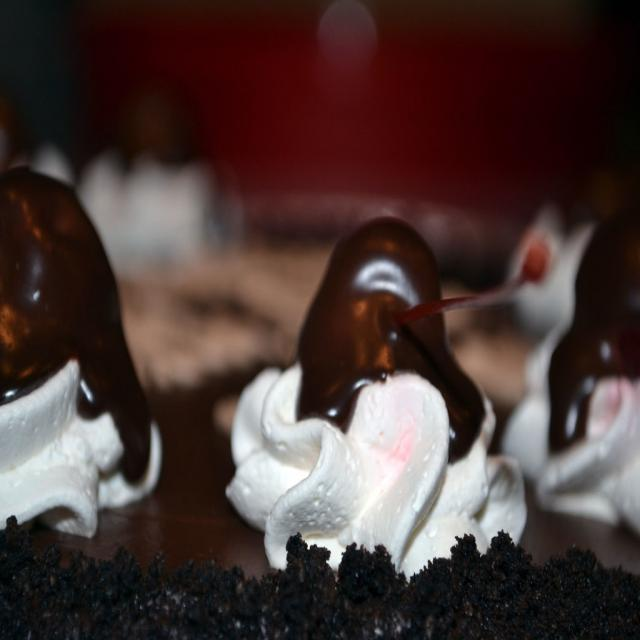Ice cream: (194, 220, 537, 638), (0, 158, 167, 540), (504, 198, 640, 539)
